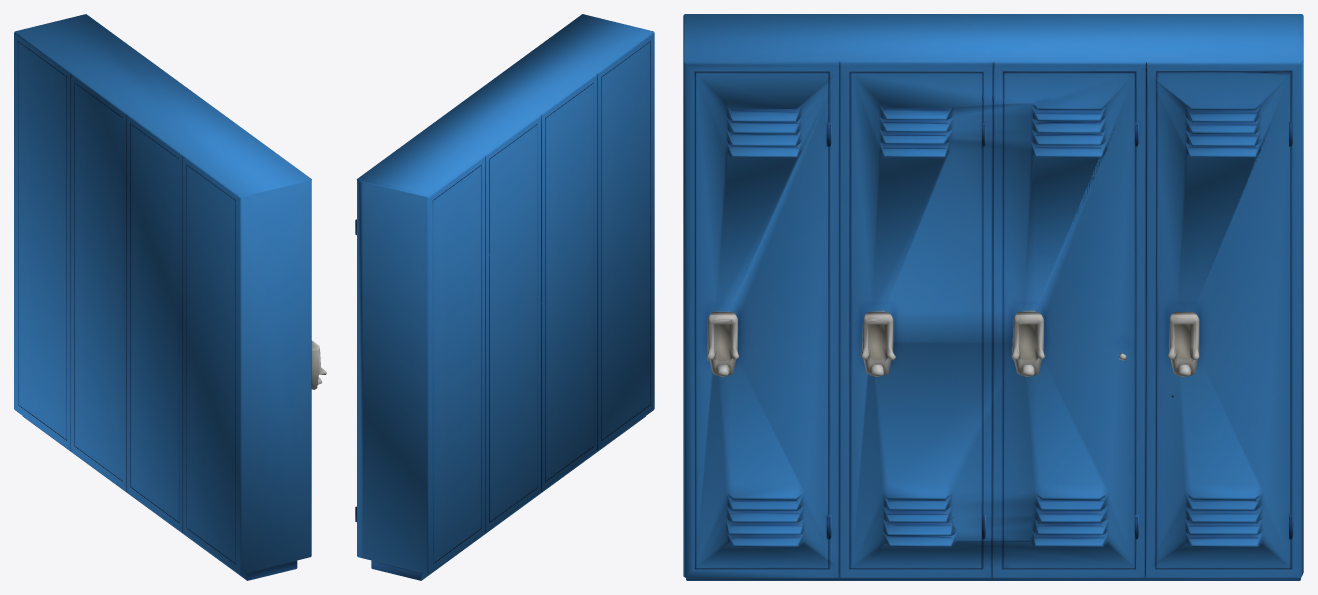
The model's file is gym_lockers.glb.
3 views of the same model, side by side, from view 1: azimuth 30°, elevation 25°; view 2: azimuth 150°, elevation 25°; view 3: azimuth 270°, elevation 25° (orthographic). The views are drawn at different scales.
Parts seen in each view (by area): view 1: tripo_node_519c6f2b-bc30-41b8-bc92-38ce00a6cef1; view 2: tripo_node_519c6f2b-bc30-41b8-bc92-38ce00a6cef1; view 3: tripo_node_519c6f2b-bc30-41b8-bc92-38ce00a6cef1.
Part boxes in pixels (bbox=[...]): tripo_node_519c6f2b-bc30-41b8-bc92-38ce00a6cef1: bbox=[14, 14, 326, 580]; tripo_node_519c6f2b-bc30-41b8-bc92-38ce00a6cef1: bbox=[355, 14, 654, 580]; tripo_node_519c6f2b-bc30-41b8-bc92-38ce00a6cef1: bbox=[683, 14, 1303, 580].
Size of the model in its own units: 0.2446 by 0.9413 by 1.
1 material, 1 textured.
